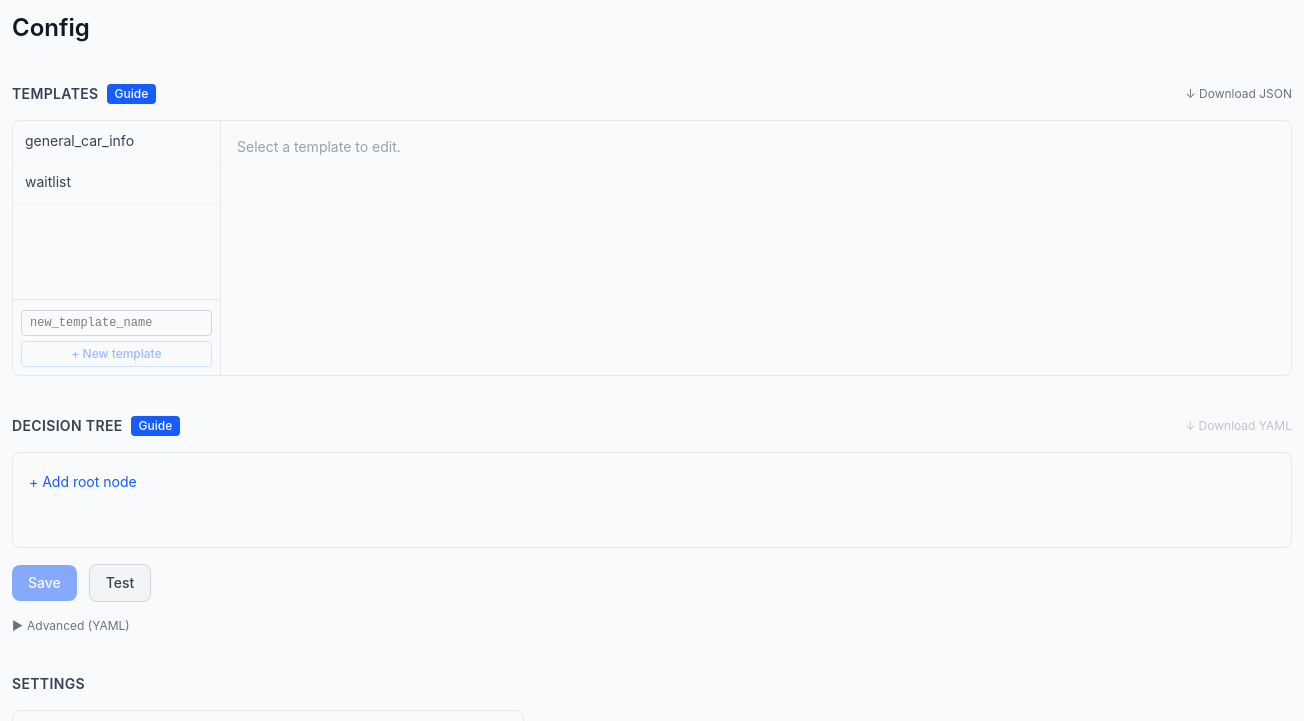
it: clicking Add root node renders a condition row
Click the button "+ Add root node": (83, 482) left=29, top=472, right=137, bottom=492
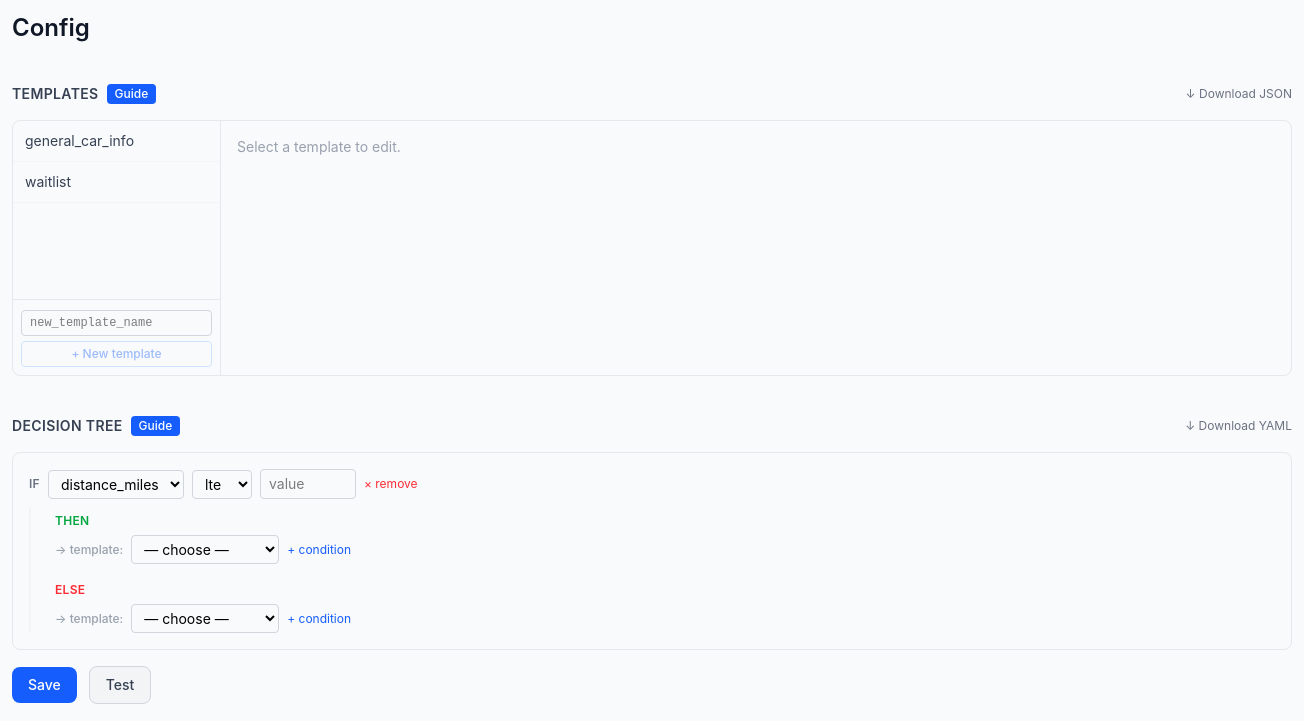
Check: the dropdown named "condition field" is shown, box left=48, top=470, right=184, bottom=498
